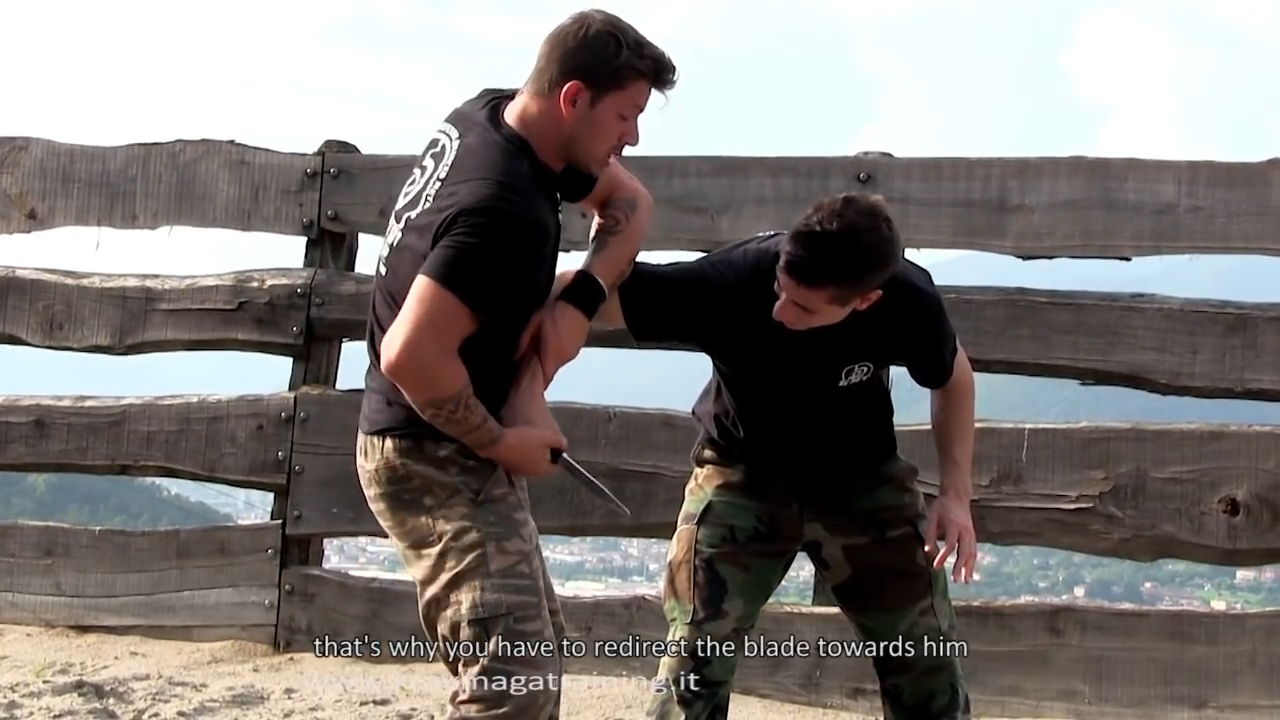knife: (518, 423, 642, 530)
